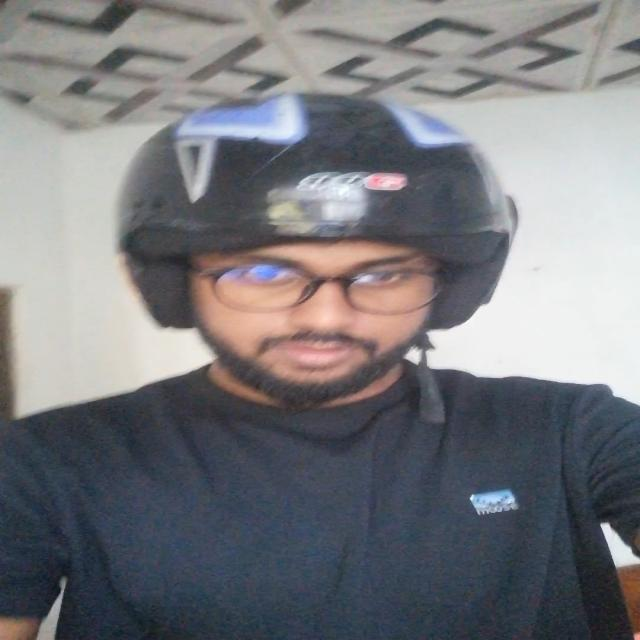Helmet_Wearer: (124, 86, 526, 456)
Person: (3, 92, 640, 640)
